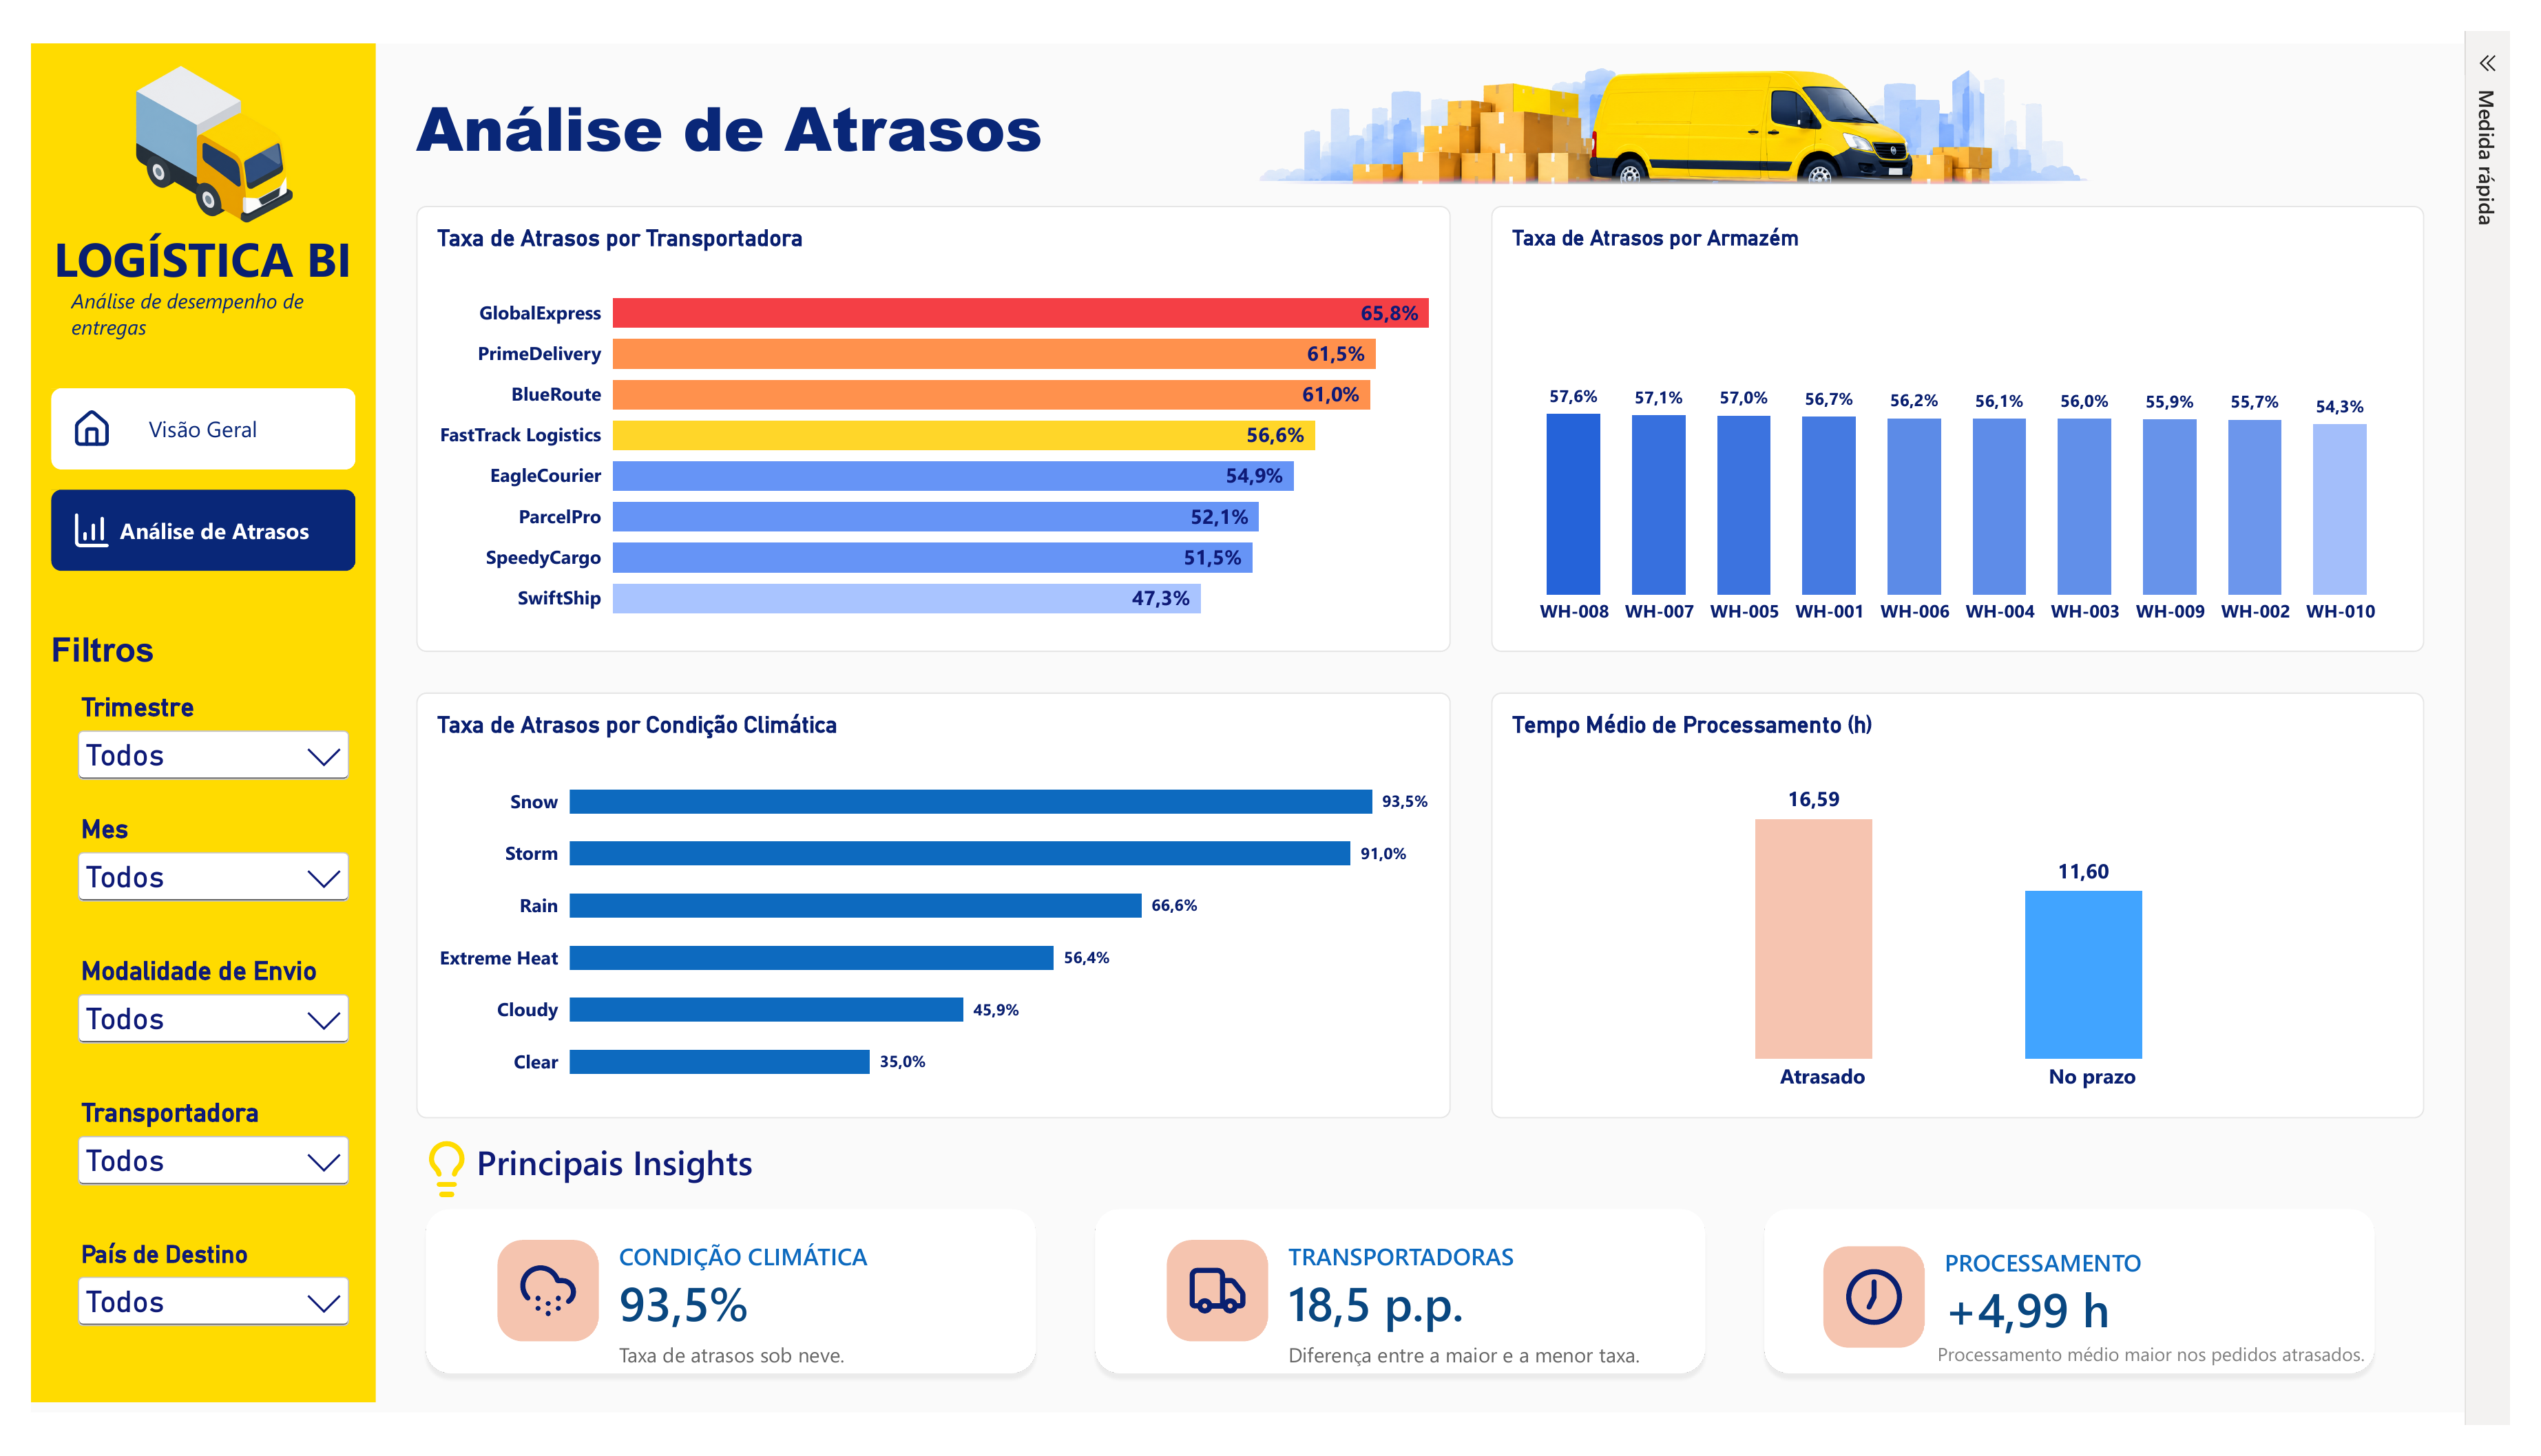

This screenshot's page, from the dashboard's own definition file:
{"tool":"powerbi","page":{"name":"Análise de Atrasos","canvas":[1920,1080],"ordinal":1},"visuals":[{"type":"barChart","title":"Taxa de Atrasos por Condição Climática","fields":{"Category":["entregas_tratadas.weather_condition"],"Y":["entregas_tratadas.Percentual_Atrasos"]},"box":[304,512,816,336],"z":0},{"type":"columnChart","title":"Taxa de Atrasos por Armazém","fields":{"Category":["entregas_tratadas.warehouse_id"],"Y":["entregas_tratadas.Percentual_Atrasos"]},"box":[1152,128,736,352],"z":1000},{"type":"columnChart","title":"Tempo Médio de Processamento (h)","fields":{"Category":["entregas_tratadas.Status_Entrega"],"Y":["Avg(entregas_tratadas.warehouse_processing_hours)"]},"box":[1152,512,736,336],"z":2000},{"type":"shape","box":[0,0,272,1072],"z":3000},{"type":"textbox","box":[16,144,240,112],"z":4000},{"type":"textbox","box":[32,192,192,64],"z":5000},{"type":"actionButton","box":[16,272,240,64],"z":6000},{"type":"actionButton","title":"Análise de Atrasos","box":[16,352,240,64],"z":7000},{"type":"image","box":[16,288,64,32],"z":8000},{"type":"image","box":[16,368,64,32],"z":9000},{"type":"textbox","box":[304,32,976,128],"z":10000},{"type":"image","box":[704,0,1184,112],"z":11000},{"type":"barChart","title":"Taxa de Atrasos por Transportadora","fields":{"Category":["entregas_tratadas.carrier"],"Y":["entregas_tratadas.Percentual_Atrasos"]},"box":[304,128,816,352],"z":12000},{"type":"image","box":[48,16,192,128],"z":13000},{"type":"slicer","fields":{"Values":["entregas_tratadas.shipping_method"]},"box":[32,720,224,96],"z":14000},{"type":"slicer","fields":{"Values":["entregas_tratadas.order_date.Variação.Hierarquia de datas.Trimestre"]},"box":[32,512,224,96],"z":15000},{"type":"slicer","fields":{"Values":["entregas_tratadas.order_date.Variação.Hierarquia de datas.Mês"]},"box":[32,608,224,96],"z":16000},{"type":"slicer","fields":{"Values":["entregas_tratadas.carrier"]},"box":[32,832,224,96],"z":17000},{"type":"slicer","fields":{"Values":["entregas_tratadas.customer_country"]},"box":[32,944,224,96],"z":18000},{"type":"textbox","box":[16,464,96,48],"z":19000},{"type":"textbox","box":[352,864,288,64],"z":20000},{"type":"image","box":[288,864,80,48],"z":21000},{"type":"shape","box":[304,912,496,144],"z":22000},{"type":"textbox","box":[464,944,304,32],"z":23000},{"type":"textbox","box":[464,968,112,64],"z":24000},{"type":"textbox","box":[464,1024,208,32],"z":25000},{"type":"shape","box":[832,912,496,144],"z":26000},{"type":"textbox","box":[992,944,304,32],"z":27000},{"type":"textbox","box":[992,968,160,64],"z":28000},{"type":"textbox","box":[992,1024,320,48],"z":29000},{"type":"shape","box":[368,944,80,80],"z":30000},{"type":"image","box":[384,960,48,48],"z":31000},{"type":"shape","box":[896,944,80,80],"z":31001},{"type":"image","box":[912,960,48,48],"z":31003},{"type":"shape","box":[1360,912,496,144],"z":31004},{"type":"textbox","box":[1510.2,948.7,304,32],"z":31005},{"type":"textbox","box":[1510.2,972.7,160,64],"z":31006},{"type":"textbox","box":[1504,1024,384,48],"z":31007},{"type":"shape","box":[1414.2,948.7,80,80],"z":31008},{"type":"image","box":[1430.2,964.7,48,48],"z":31009}]}

Visuals, with their boxes in screenshot pixels (x1, y1, x2, y2), scaled from the page's 1920x1080 canvas onto the 2541x1456 screenshot:
"Taxa de Atrasos por Condição Climática" barChart: [402,690,1482,1143]
"Taxa de Atrasos por Armazém" columnChart: [1525,173,2498,647]
"Tempo Médio de Processamento (h)" columnChart: [1525,690,2498,1143]
shape: [0,0,360,1445]
textbox: [21,194,339,345]
textbox: [43,259,296,345]
actionButton: [21,367,339,453]
"Análise de Atrasos" actionButton: [21,474,339,561]
image: [21,388,106,432]
image: [21,496,106,539]
textbox: [402,43,1694,215]
image: [932,0,2498,151]
"Taxa de Atrasos por Transportadora" barChart: [402,173,1482,647]
image: [63,21,317,194]
slicer - entregas_tratadas.shipping_method: [43,971,339,1100]
slicer - entregas_tratadas.order_date.Variação.Hierarquia de datas.Trimestre: [43,690,339,820]
slicer - entregas_tratadas.order_date.Variação.Hierarquia de datas.Mês: [43,820,339,949]
slicer - entregas_tratadas.carrier: [43,1121,339,1251]
slicer - entregas_tratadas.customer_country: [43,1273,339,1402]
textbox: [21,626,148,690]
textbox: [466,1165,847,1251]
image: [381,1165,487,1230]
shape: [402,1230,1059,1424]
textbox: [614,1273,1016,1316]
textbox: [614,1305,762,1391]
textbox: [614,1380,890,1424]
shape: [1101,1230,1757,1424]
textbox: [1313,1273,1715,1316]
textbox: [1313,1305,1525,1391]
textbox: [1313,1380,1737,1445]
shape: [487,1273,593,1380]
image: [508,1294,572,1359]
shape: [1186,1273,1292,1380]
image: [1207,1294,1270,1359]
shape: [1800,1230,2456,1424]
textbox: [1998,1279,2401,1322]
textbox: [1998,1311,2210,1397]
textbox: [1990,1380,2498,1445]
shape: [1872,1279,1978,1387]
image: [1893,1300,1956,1365]
